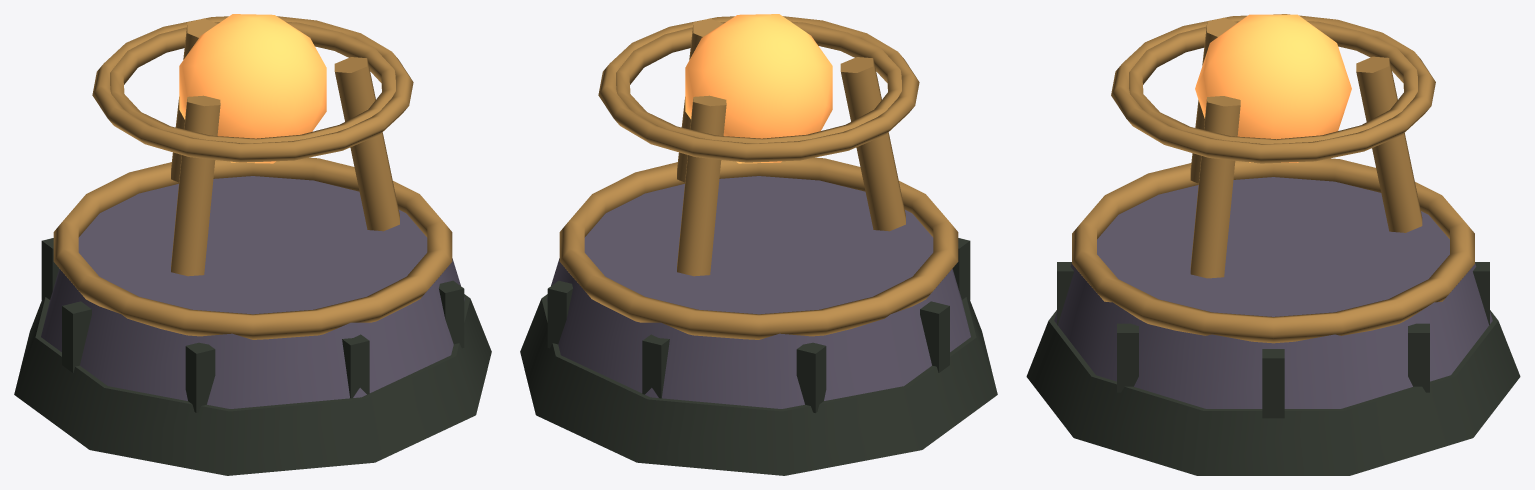
File: tower_meteor_meteorCaller.glb
3 views of the same model, side by side, from view 1: azimuth 30°, elevation 25°; view 2: azimuth 150°, elevation 25°; view 3: azimuth 270°, elevation 25° (orthographic).
Parts seen in each view (by area): view 1: stone_1, foot_0, rim_2, meteor_14, armillary_16, armillary_15, claw_13, claw_12, mortar_6, mortar_7, mortar_5, mortar_4 (+2 smaller); view 2: stone_1, foot_0, rim_2, meteor_14, armillary_16, armillary_15, claw_11, claw_13, mortar_8, mortar_7, mortar_9, mortar_10 (+2 smaller); view 3: stone_1, foot_0, rim_2, meteor_14, armillary_16, armillary_15, claw_12, claw_11, mortar_3, mortar_4, mortar_10, claw_13 (+2 smaller).
Part boxes in pixels (box(x1,y1,x2,y2)): stone_1: box(41, 176, 464, 408); foot_0: box(14, 294, 491, 475); rim_2: box(53, 157, 452, 339); meteor_14: box(179, 14, 326, 163); armillary_16: box(92, 16, 413, 162); armillary_15: box(110, 21, 395, 143); claw_13: box(171, 95, 220, 276); claw_12: box(334, 57, 399, 231); mortar_6: box(185, 342, 215, 412); mortar_7: box(62, 301, 91, 372); mortar_5: box(342, 334, 369, 398); mortar_4: box(439, 280, 464, 348); stone_1: box(547, 176, 970, 408); foot_0: box(520, 294, 997, 475); rim_2: box(559, 157, 958, 339); meteor_14: box(685, 14, 832, 163); armillary_16: box(598, 16, 919, 162); armillary_15: box(616, 21, 901, 143); claw_11: box(677, 95, 726, 276); claw_13: box(840, 57, 905, 231); mortar_8: box(796, 342, 826, 412); mortar_7: box(920, 301, 949, 372); mortar_9: box(642, 334, 669, 398); mortar_10: box(547, 280, 572, 348); stone_1: box(1054, 177, 1492, 408); foot_0: box(1026, 310, 1520, 475); rim_2: box(1072, 158, 1474, 343); meteor_14: box(1195, 14, 1351, 162); armillary_16: box(1111, 14, 1435, 163); armillary_15: box(1129, 21, 1417, 143); claw_12: box(1190, 96, 1240, 278); claw_11: box(1356, 56, 1422, 232); mortar_3: box(1262, 349, 1284, 418); mortar_4: box(1117, 323, 1138, 392); mortar_10: box(1408, 323, 1429, 392); claw_13: box(1190, 17, 1236, 183).
Bounding box in the file's own units: 0.5326 × 0.449 × 0.56.
